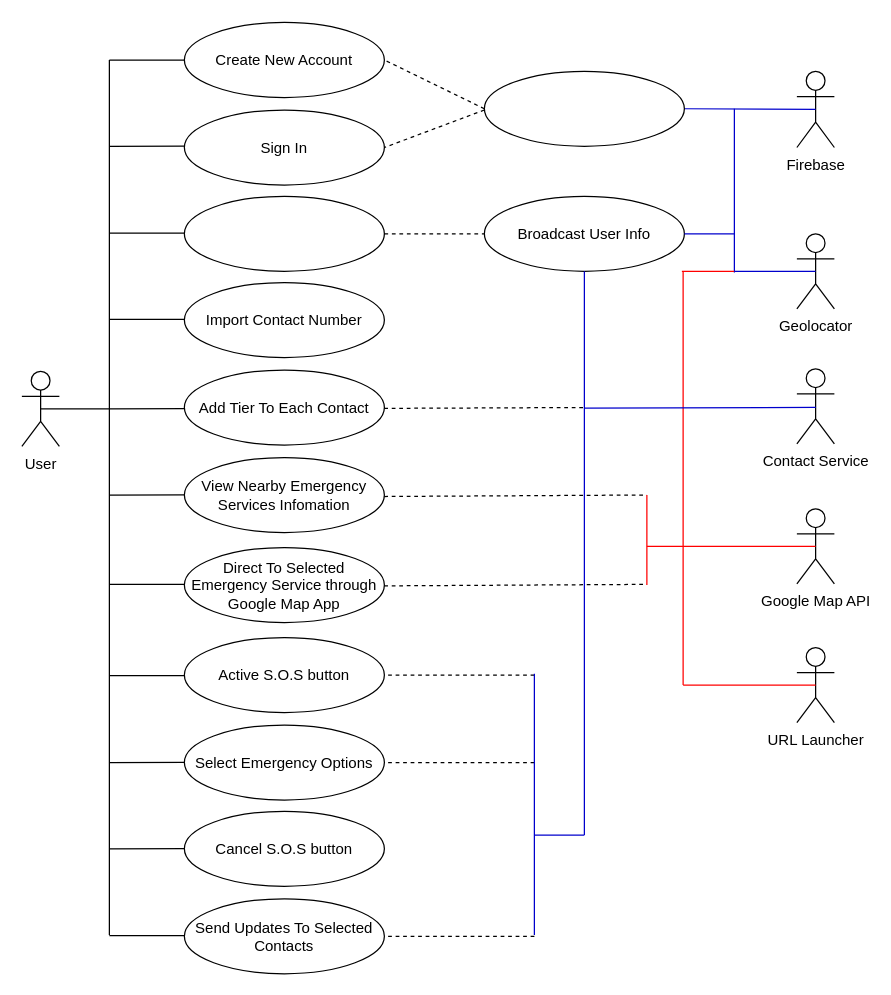
This 891x995 diagram has some shape labels left out. The shapes that lost their labels are listed below. From the top down, each one's centre as x and y in pixels, then its label:
the point at 583,108: Authorization
the point at 283,233: Edit User Profile
